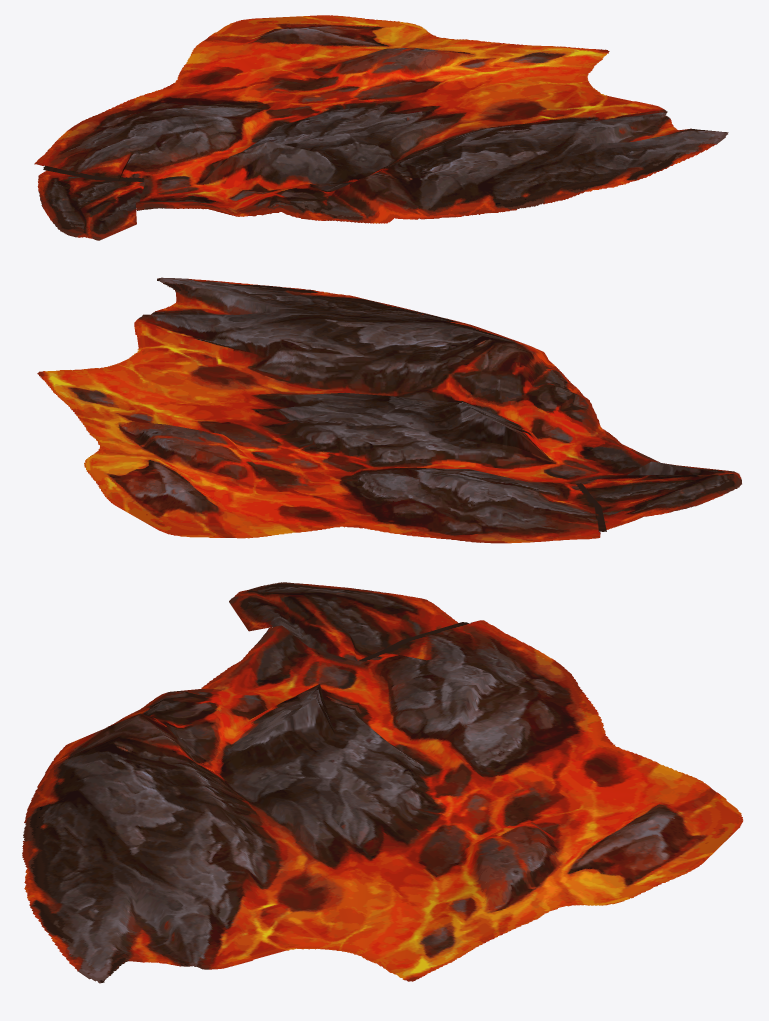
Rendered from hs_shan_2.FBX.
3 renders of one model, top to bottom at view 1: azimuth 30°, elevation 25°; view 2: azimuth 150°, elevation 25°; view 3: azimuth 270°, elevation 25°, orthographic. The views are drawn at different scales.
Visible parts, largest first — view 1: hs_shan_2; view 2: hs_shan_2; view 3: hs_shan_2.
Part boxes in pixels (x1,y1,x2,y2): hs_shan_2: (34,15,728,240); hs_shan_2: (37,277,741,543); hs_shan_2: (22,582,743,983).
Size of the model in its own units: 429 by 19.56 by 312.
